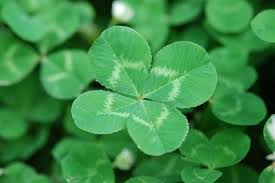4-clover: (73, 28, 217, 154)
